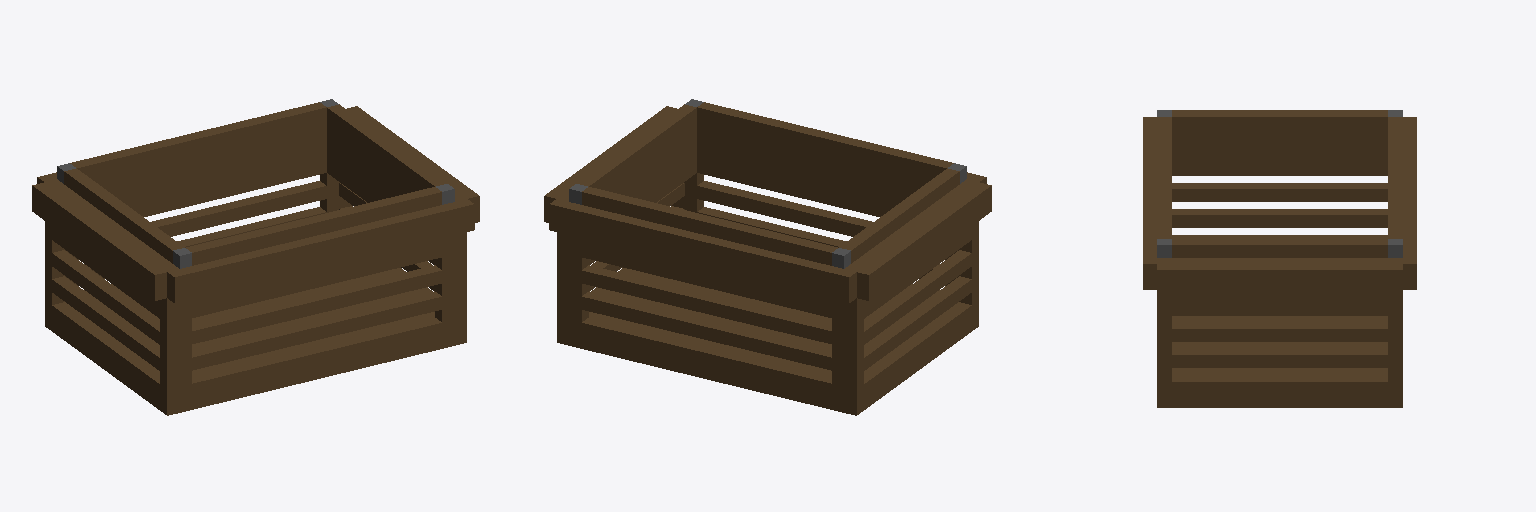
The picture shows the model from 3 angles: view 1: azimuth 30°, elevation 25°; view 2: azimuth 150°, elevation 25°; view 3: azimuth 270°, elevation 25°; orthographic projection.
Visible parts, largest first — view 1: object 1; view 2: object 1; view 3: object 1.
Part boxes in pixels (x1,y1,x2,y2): object 1: (32,99,479,415); object 1: (544,99,991,415); object 1: (1143,110,1416,407).
Bounding box in the file's own units: 2.6 × 1.2 × 1.9.
1 materials, 1 textured.